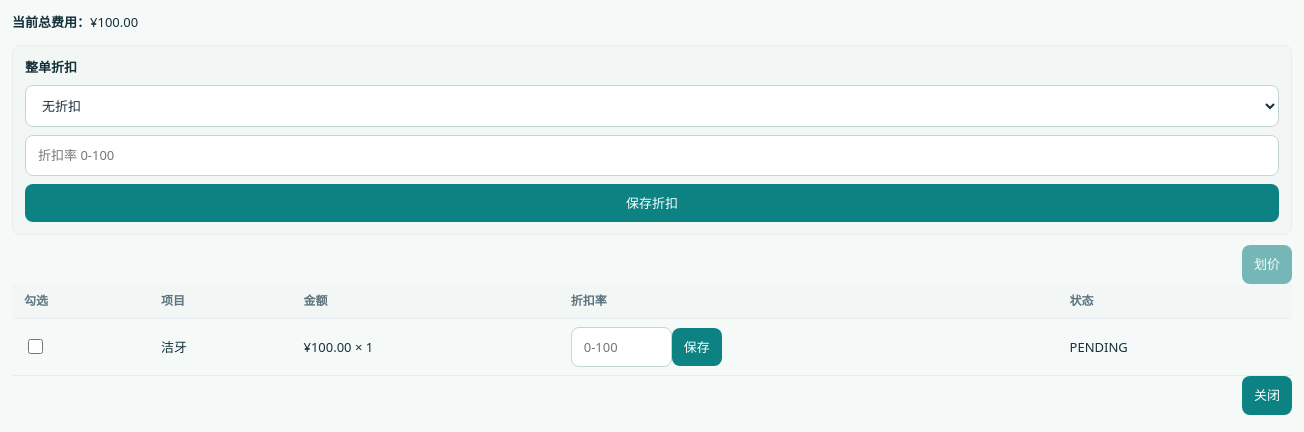
Test: PlanBillingDialog › saves a whole-plan discount and refreshes the total
Expected: the text "洁牙" is shown, [149,318,292,376]
Select "整单折" in the dropdown named "整单折扣类型" at x=652, y=106, box [25,85,1279,127]
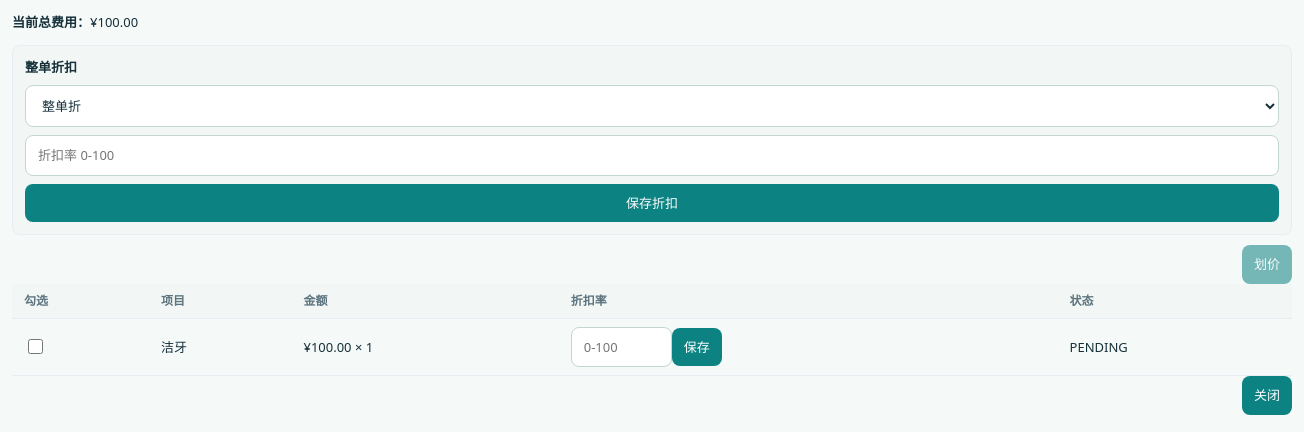
Type "80" into the number field named "整单折扣率".
click(652, 155); type("80")  # box [25,135,1279,176]
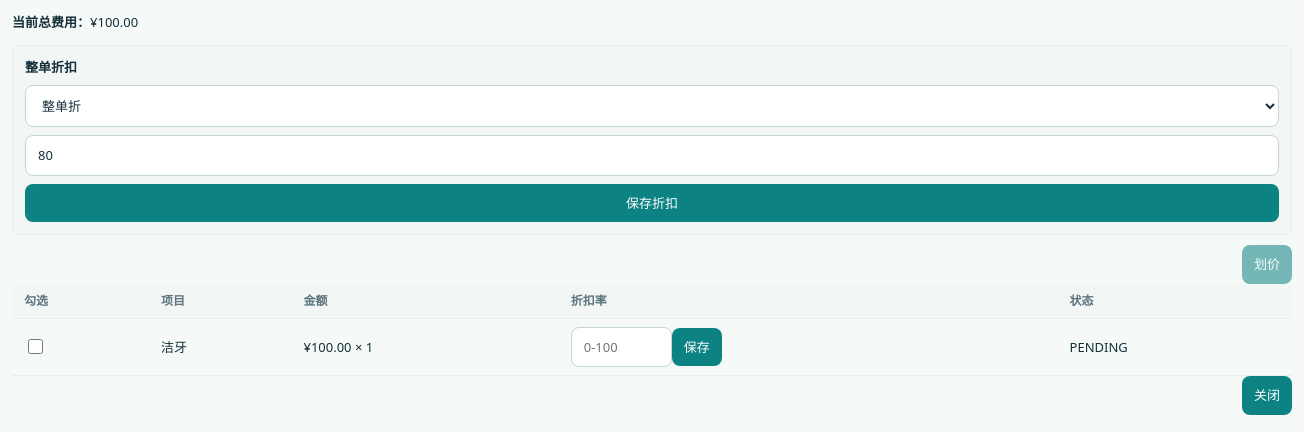
Click the button "保存折扣".
click(652, 203)  # box [25,184,1279,222]
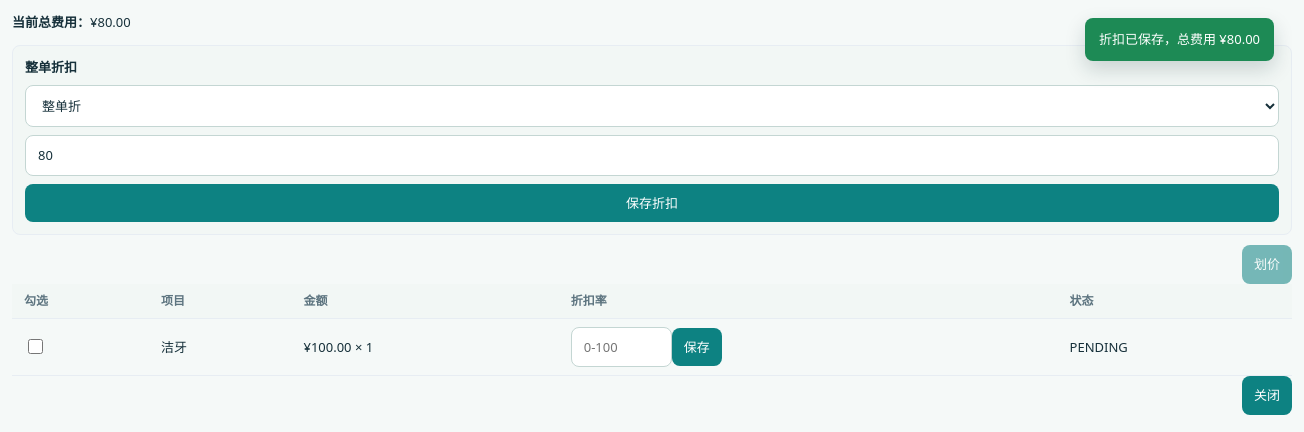
Now the text "折扣已保存，总费用 ¥80.00" is shown, box [1085,18,1274,61]
Now the text "¥80.00" is shown, box [90,13,131,31]
